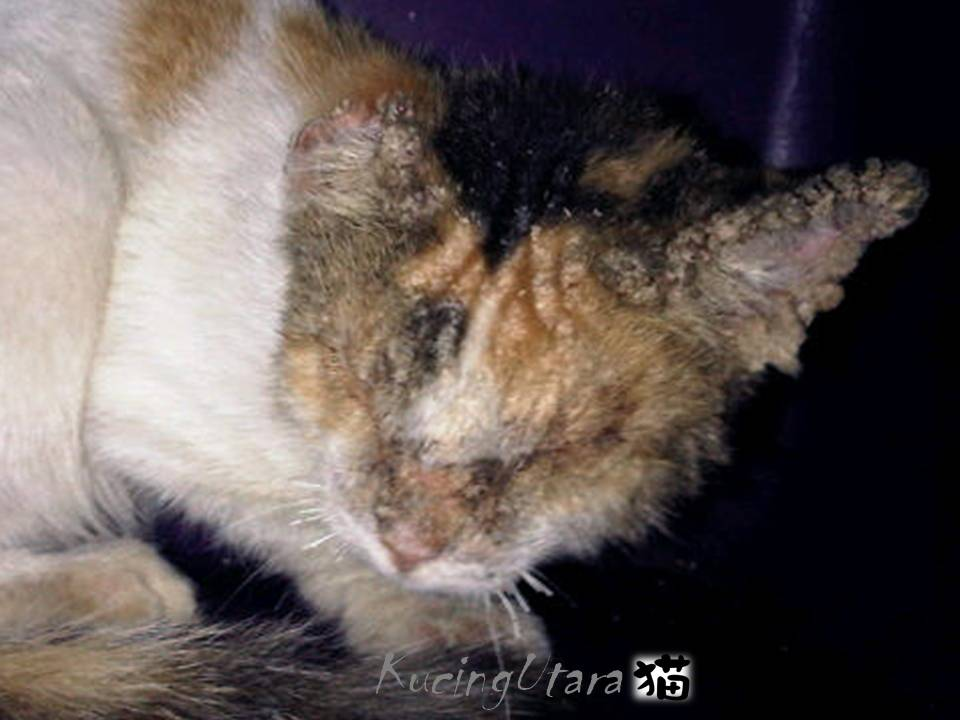kudis: (596, 142, 933, 374), (361, 85, 431, 220)
